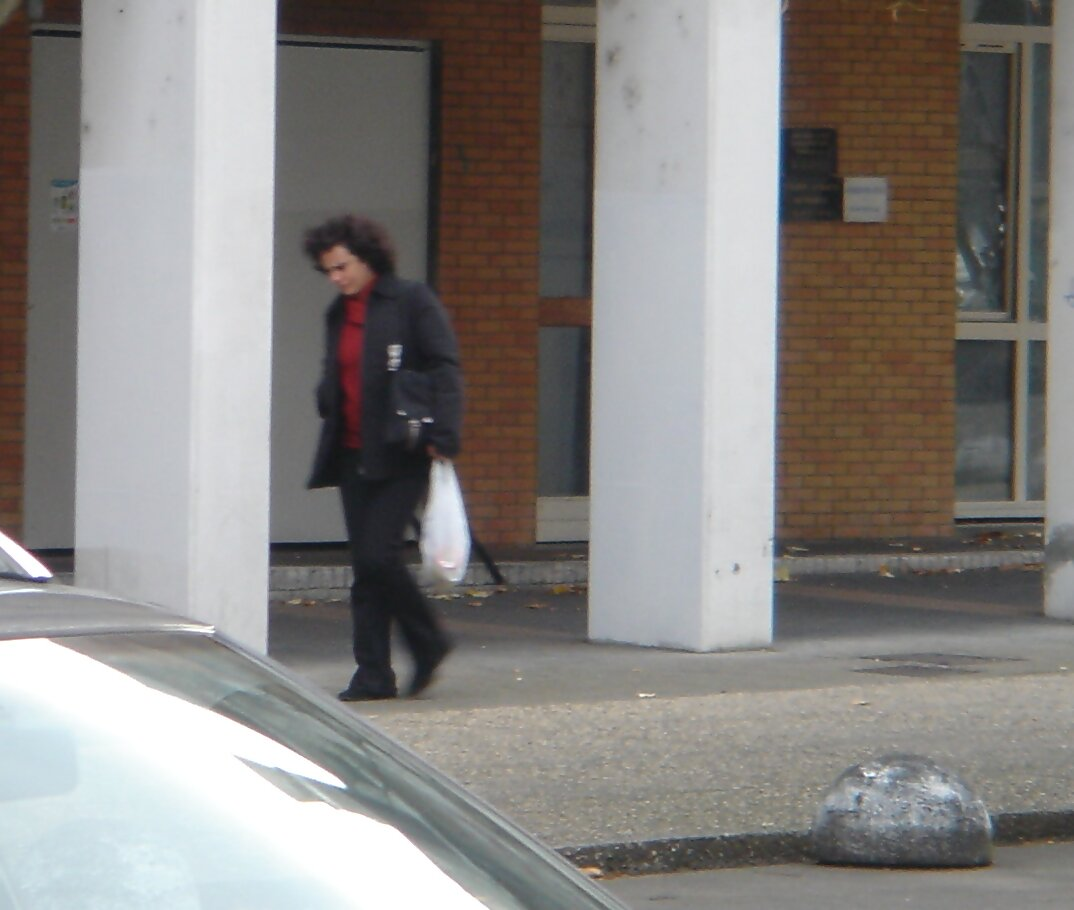person: (287, 207, 482, 710)
